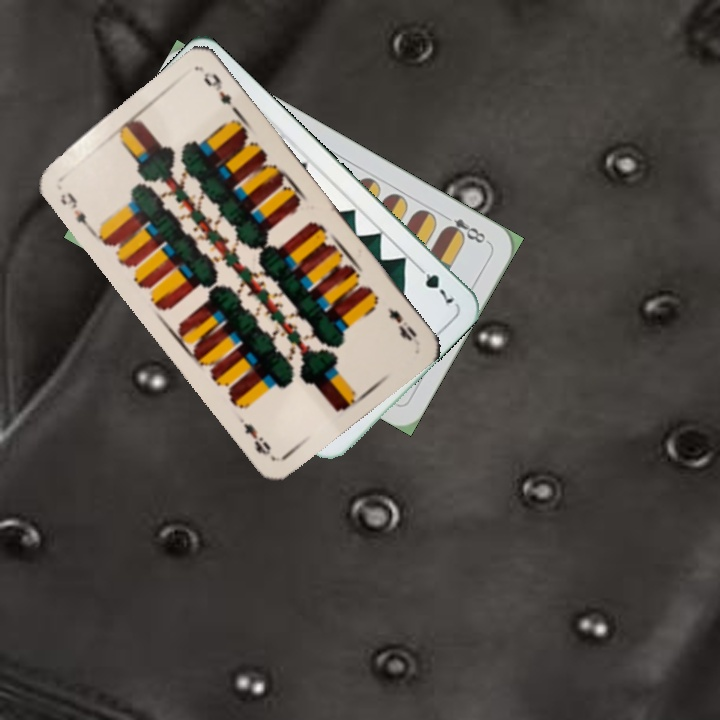E8: (438, 210, 492, 247)
E9: (56, 188, 94, 233), (384, 303, 420, 344)
G7: (411, 260, 457, 306)
